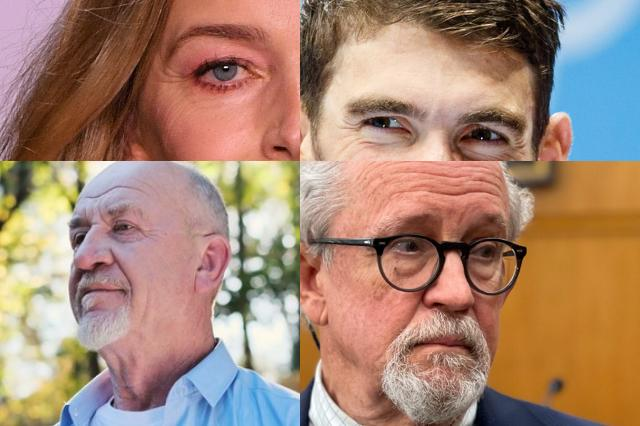crows_feet: (338, 118, 362, 144), (163, 67, 190, 89), (509, 138, 526, 161), (138, 224, 156, 237)
forehead: (450, 161, 502, 203), (393, 161, 443, 196), (108, 181, 140, 195), (84, 190, 106, 204), (143, 180, 157, 194)
frown_line: (94, 205, 106, 225)
gummy_smile: (400, 291, 424, 331), (110, 256, 130, 286), (465, 297, 483, 323)
